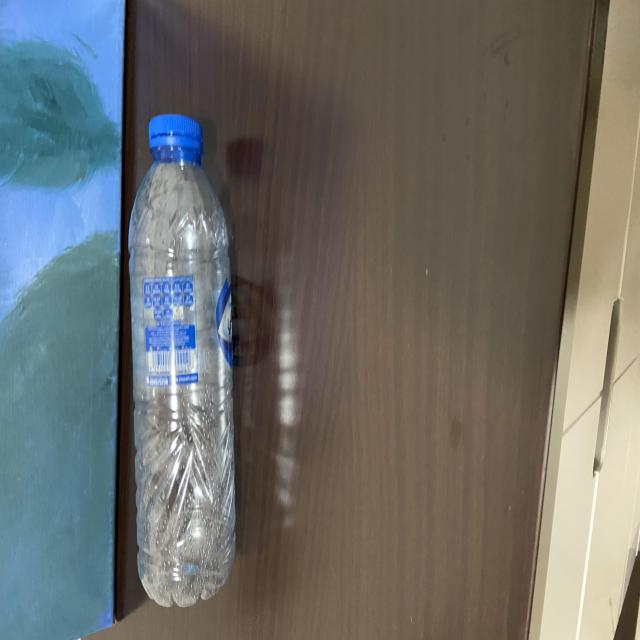bottle: (120, 96, 243, 614)
